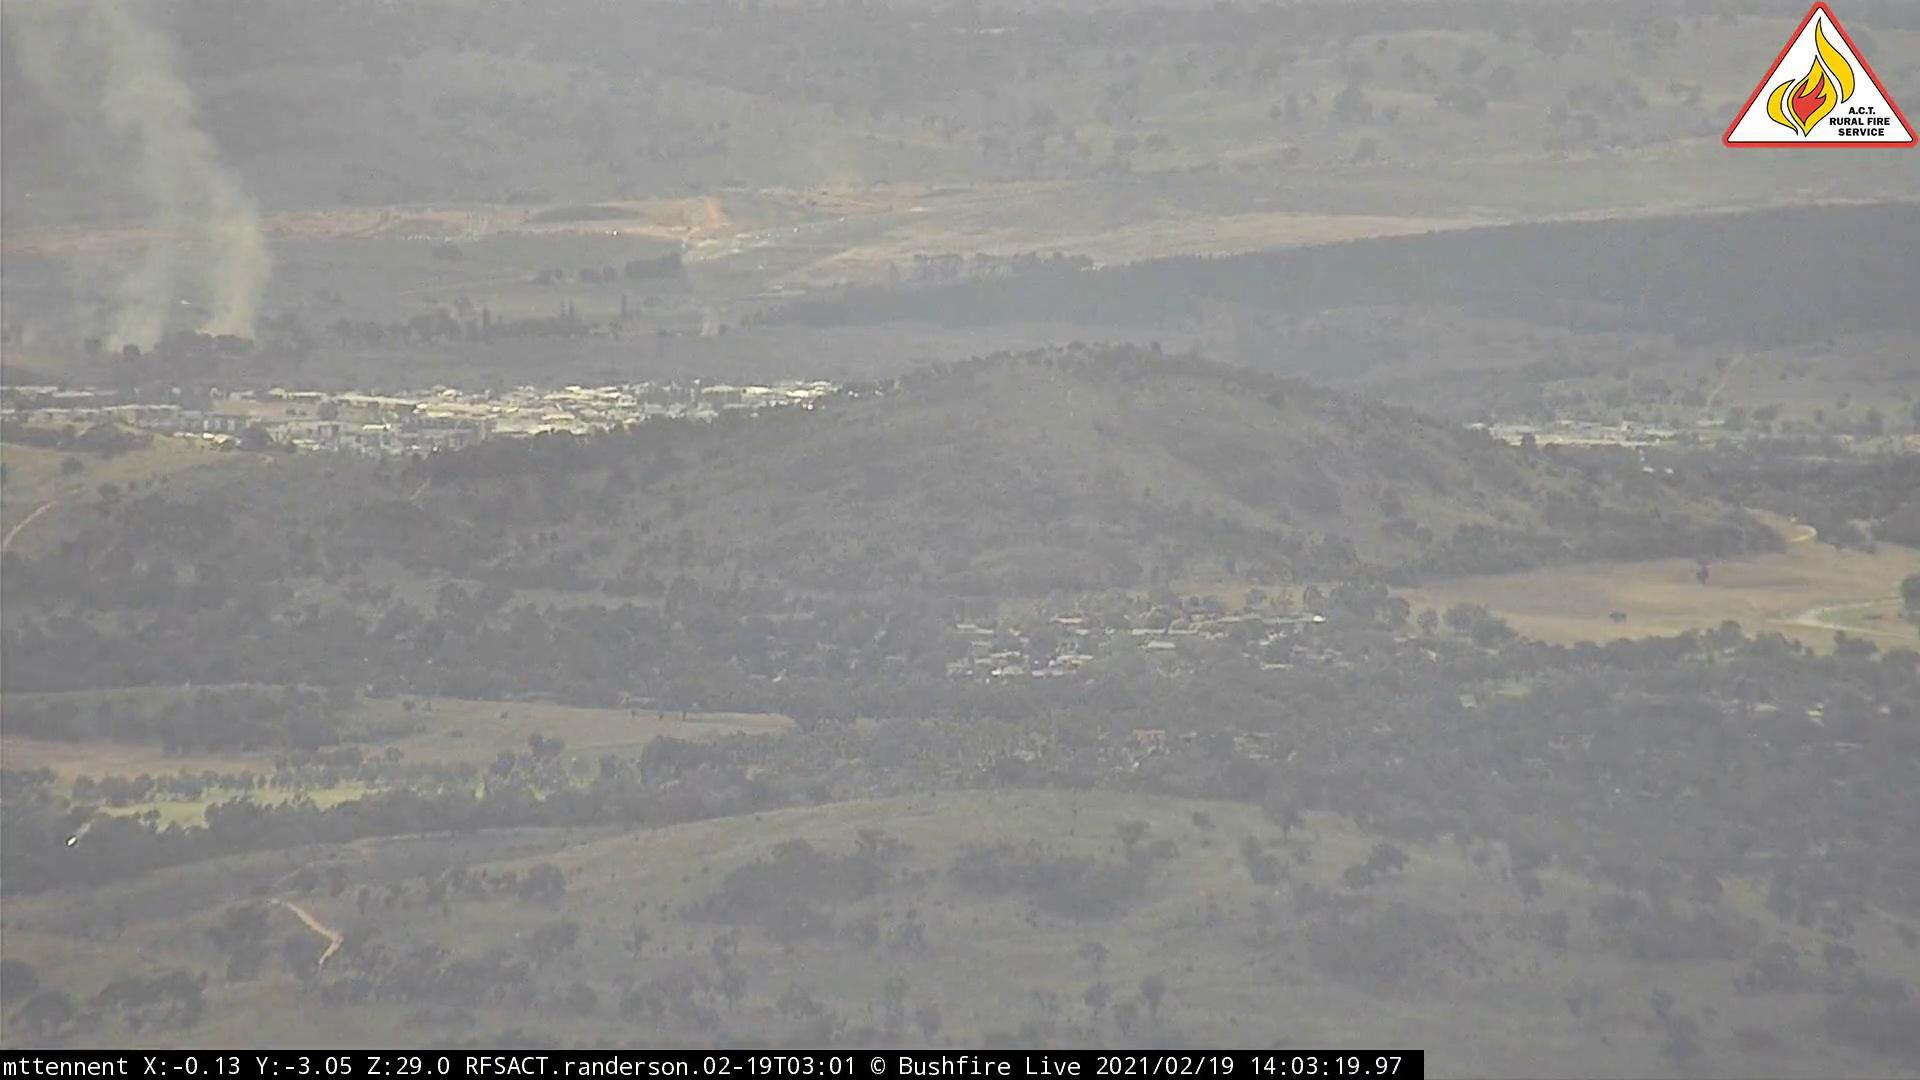Smoke: (3, 3, 294, 371), (688, 302, 742, 344)
